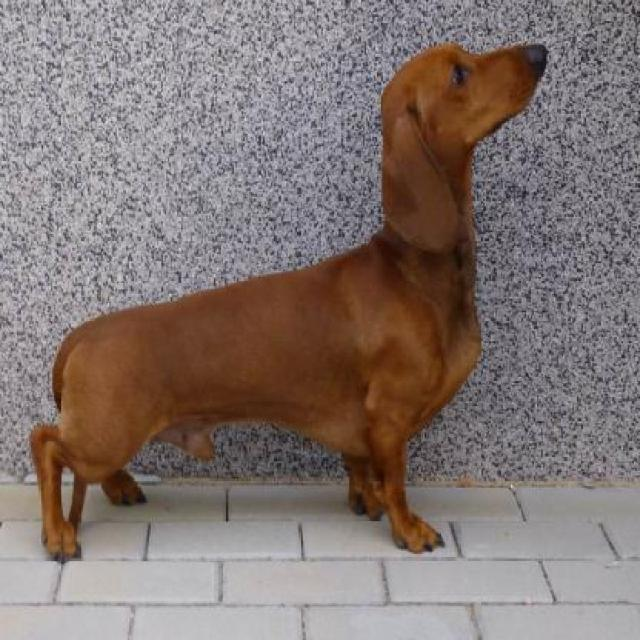Dog: (30, 38, 552, 570)
